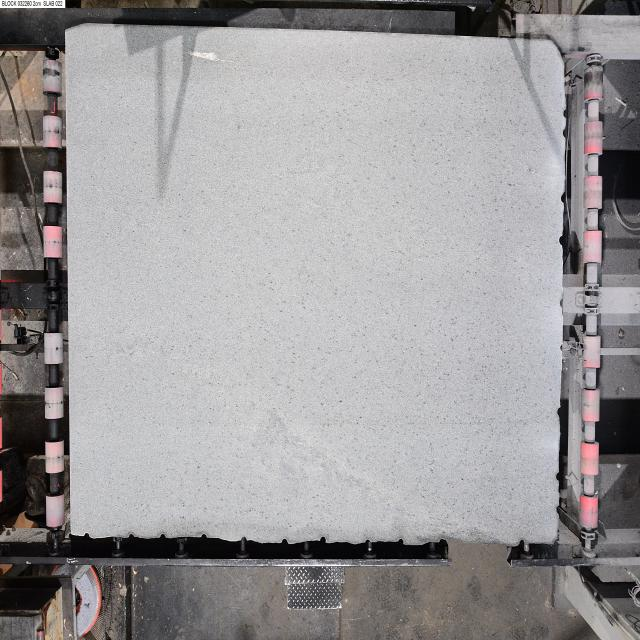chapa: (66, 24, 565, 544)
veio: (318, 534, 327, 546)
